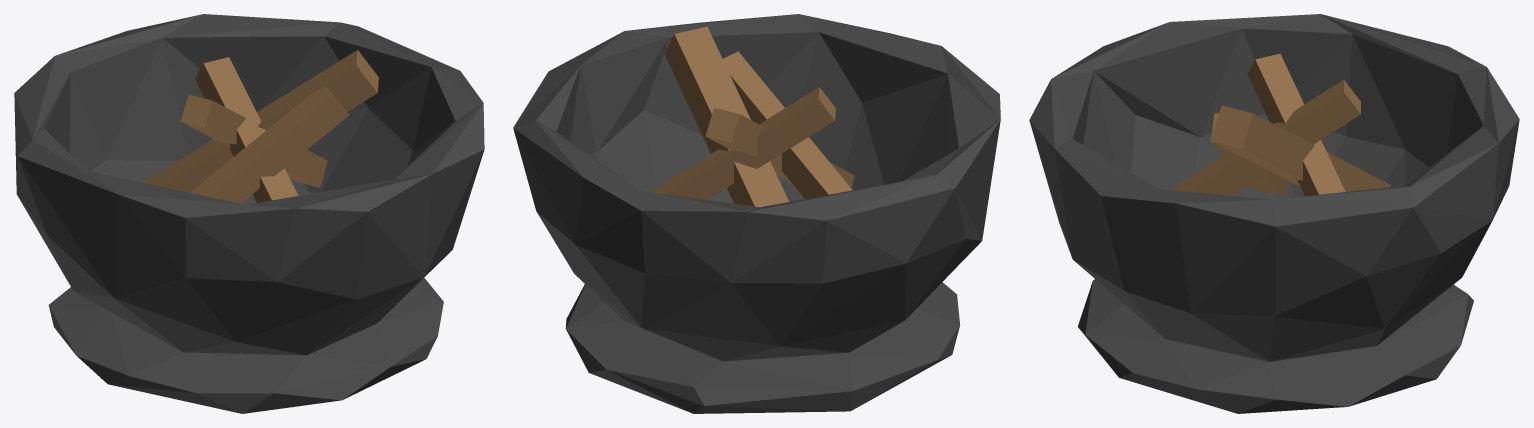
Rendered from Fire_01.glb.
The picture shows the model from 3 angles, left to right: view 1: azimuth 30°, elevation 25°; view 2: azimuth 150°, elevation 25°; view 3: azimuth 270°, elevation 25°; orthographic projection.
Visible parts, largest first — view 1: Fire_01; view 2: Fire_01; view 3: Fire_01.
Part boxes in pixels (x1,y1,x2,y2): Fire_01: (14,14,484,413); Fire_01: (513,14,1000,413); Fire_01: (1029,14,1519,413).
Size of the model in its own units: 0.4535 by 0.2738 by 0.4526.
Materials: 1 (1 with a texture image).
